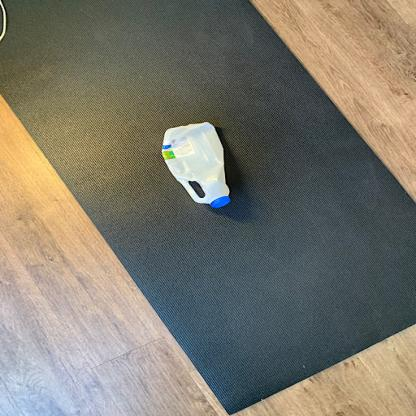trash: (162, 122, 236, 212)
